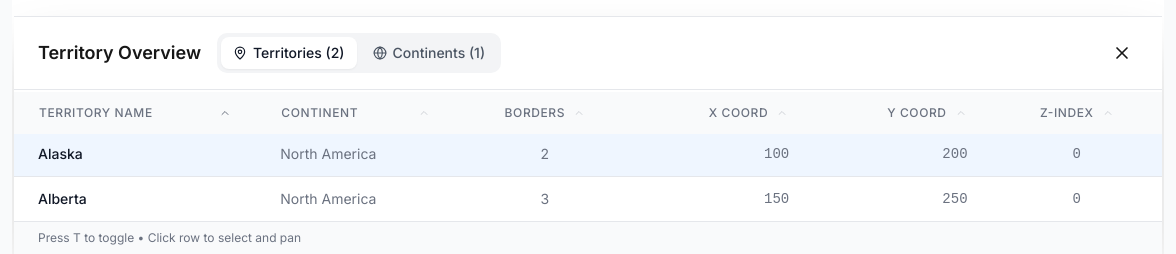
Test: TerritoryTablePanel › switches between territories and continents tabs
Step 1. Click the button "Continents (1)" → (429, 53), box [360,37,497,69]
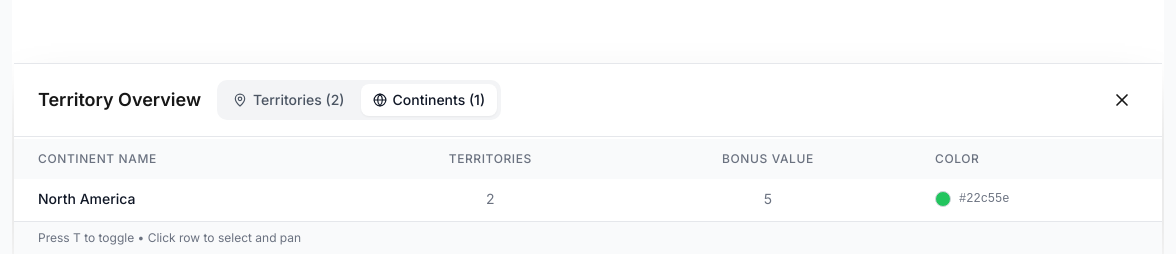
Check: the text "North America" is shown, box [14,177,356,221]
Check: the text "5" is shown, box [625,177,911,221]
